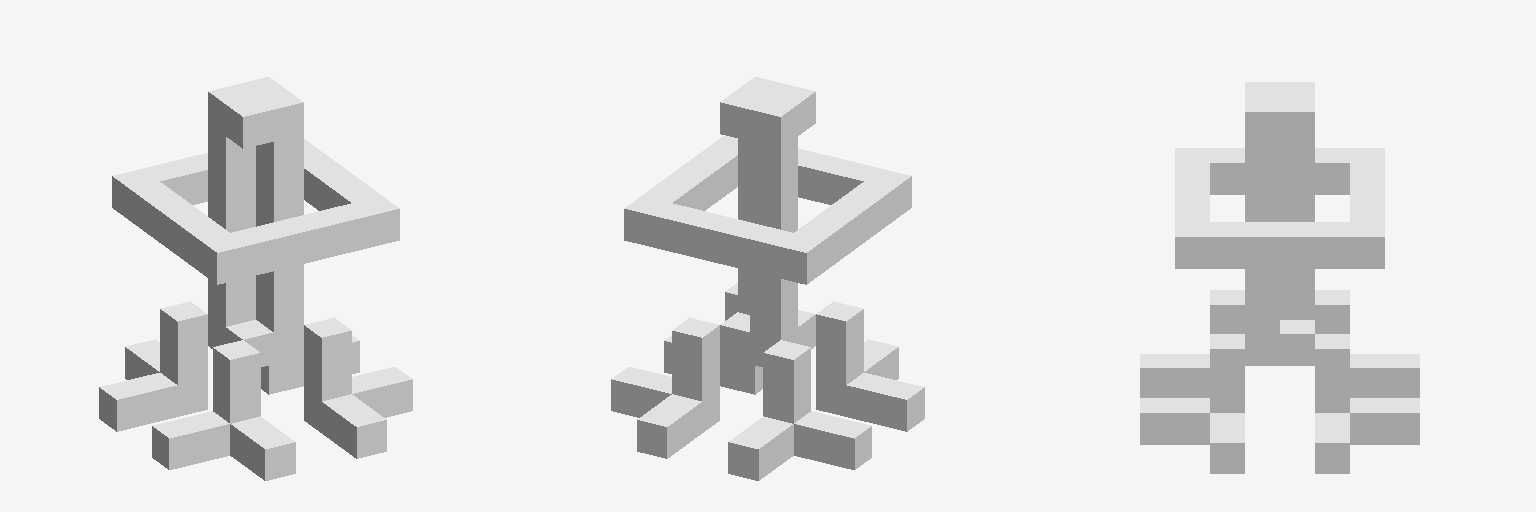
The model's file is transformstation-1.obj.
The picture shows the model from 3 angles: view 1: azimuth 30°, elevation 25°; view 2: azimuth 150°, elevation 25°; view 3: azimuth 270°, elevation 25°; orthographic projection.
Visible parts, largest first — view 1: object 1; view 2: object 1; view 3: object 1.
Boxes of the visible parts, x1=… form: object 1: x1=99, y1=77, x2=412, y2=480; object 1: x1=611, y1=77, x2=924, y2=480; object 1: x1=1140, y1=82, x2=1419, y2=473.
Size of the model in its own units: 0.8 by 1 by 0.8.